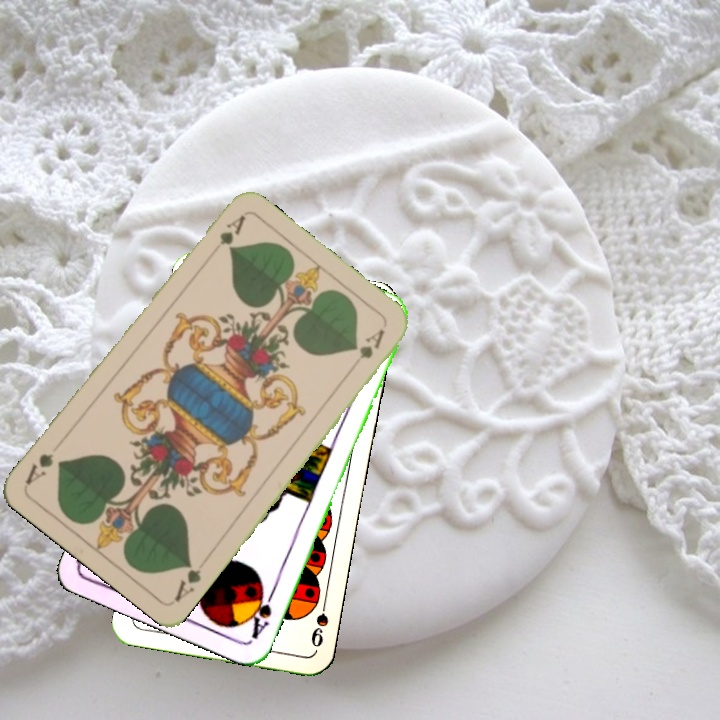GA: (204, 211, 248, 261), (169, 557, 204, 605)
S9: (307, 592, 331, 650)
SA: (244, 581, 278, 642)
